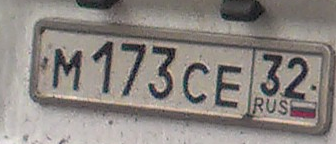character: (147, 43, 178, 103), (118, 40, 147, 99), (51, 48, 85, 92), (213, 61, 244, 109), (179, 60, 210, 107), (282, 56, 312, 101), (91, 39, 115, 94), (259, 52, 284, 98)
